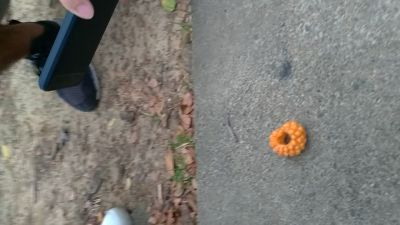eggs: (267, 120, 309, 161)
